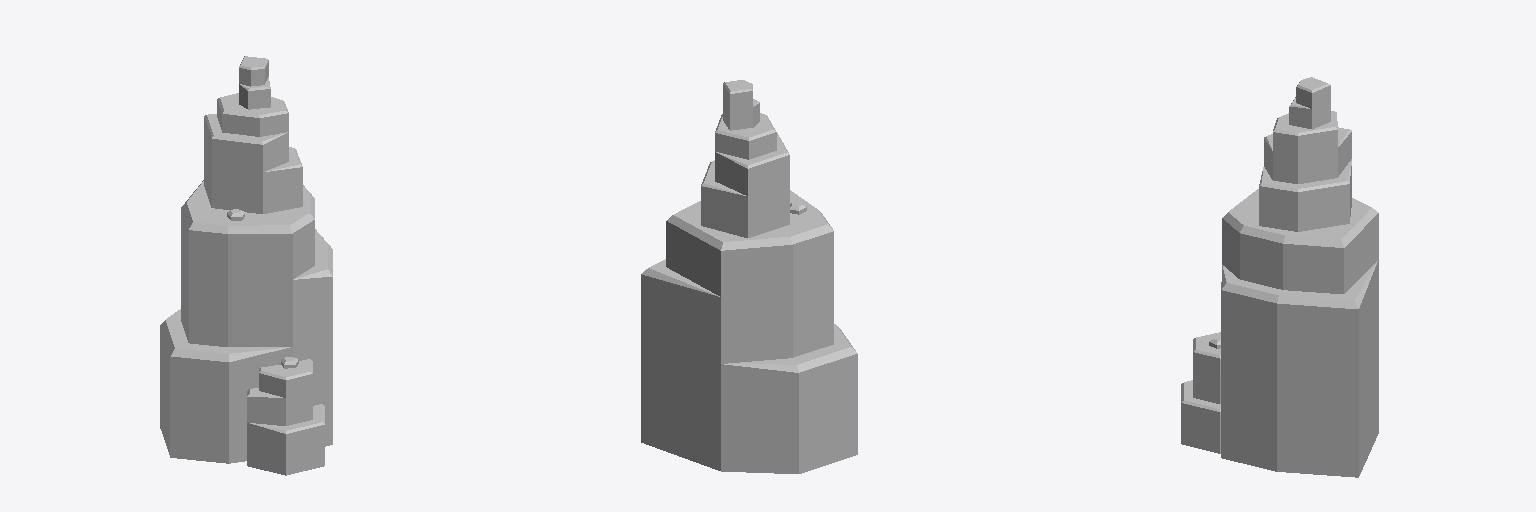
The model's file is Rock_1_N_Color1.obj.
3 renders of one model, left to right at view 1: azimuth 30°, elevation 25°; view 2: azimuth 150°, elevation 25°; view 3: azimuth 270°, elevation 25°, orthographic.
Visible parts, largest first — view 1: Rock_1_N_Color1; view 2: Rock_1_N_Color1; view 3: Rock_1_N_Color1.
Boxes of the visible parts, x1=… form: Rock_1_N_Color1: x1=160, y1=56, x2=332, y2=475; Rock_1_N_Color1: x1=641, y1=80, x2=857, y2=473; Rock_1_N_Color1: x1=1181, y1=77, x2=1378, y2=477.
Size of the model in its own units: 2.3 by 4.5 by 2.24.